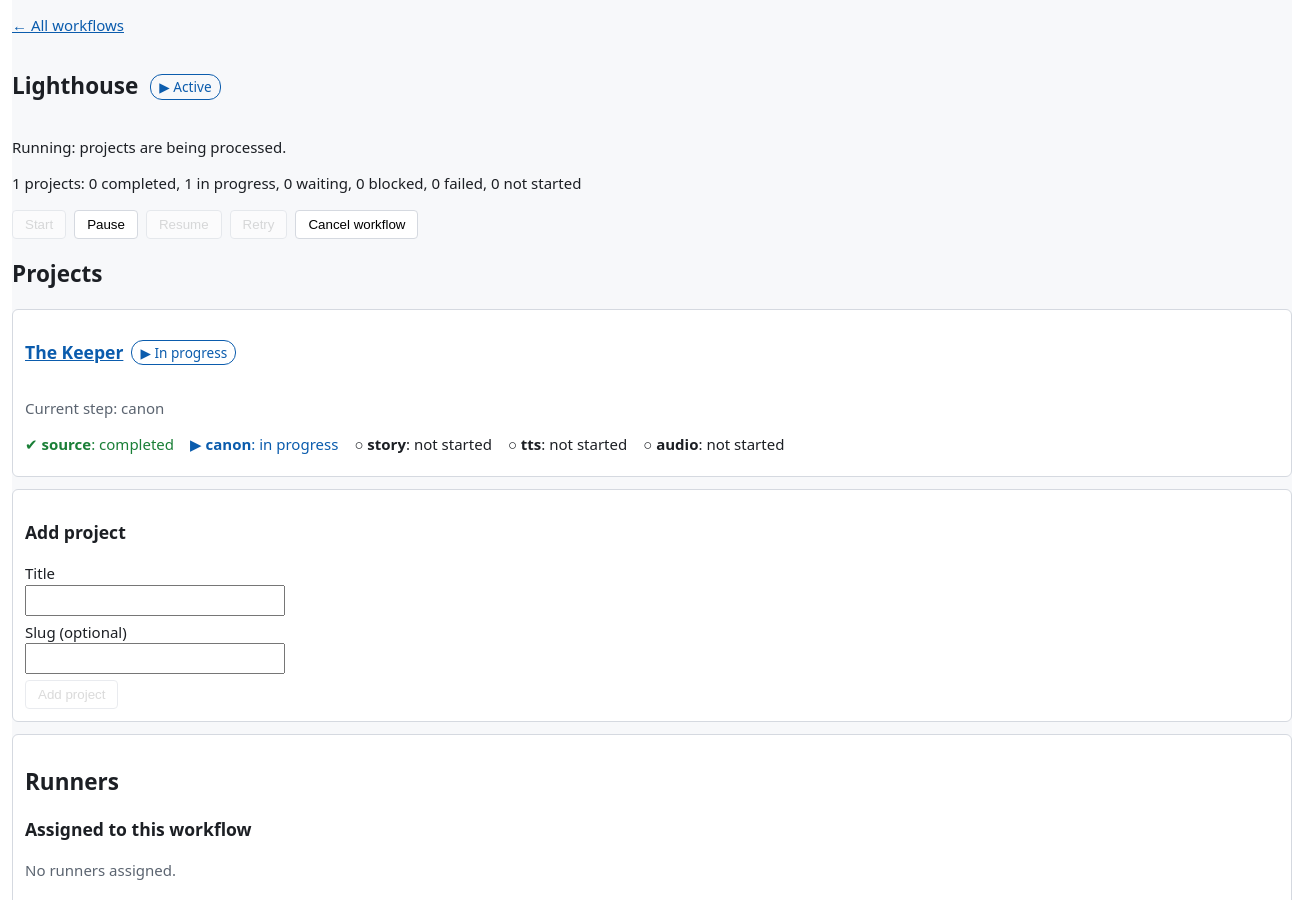
commands and forms › conflict from backend surfaces as alert
Expected: the heading "Lighthouse" is shown, [12,70,138,103]
Click the button "Pause".
click(106, 225)  # box [74,210,138,239]
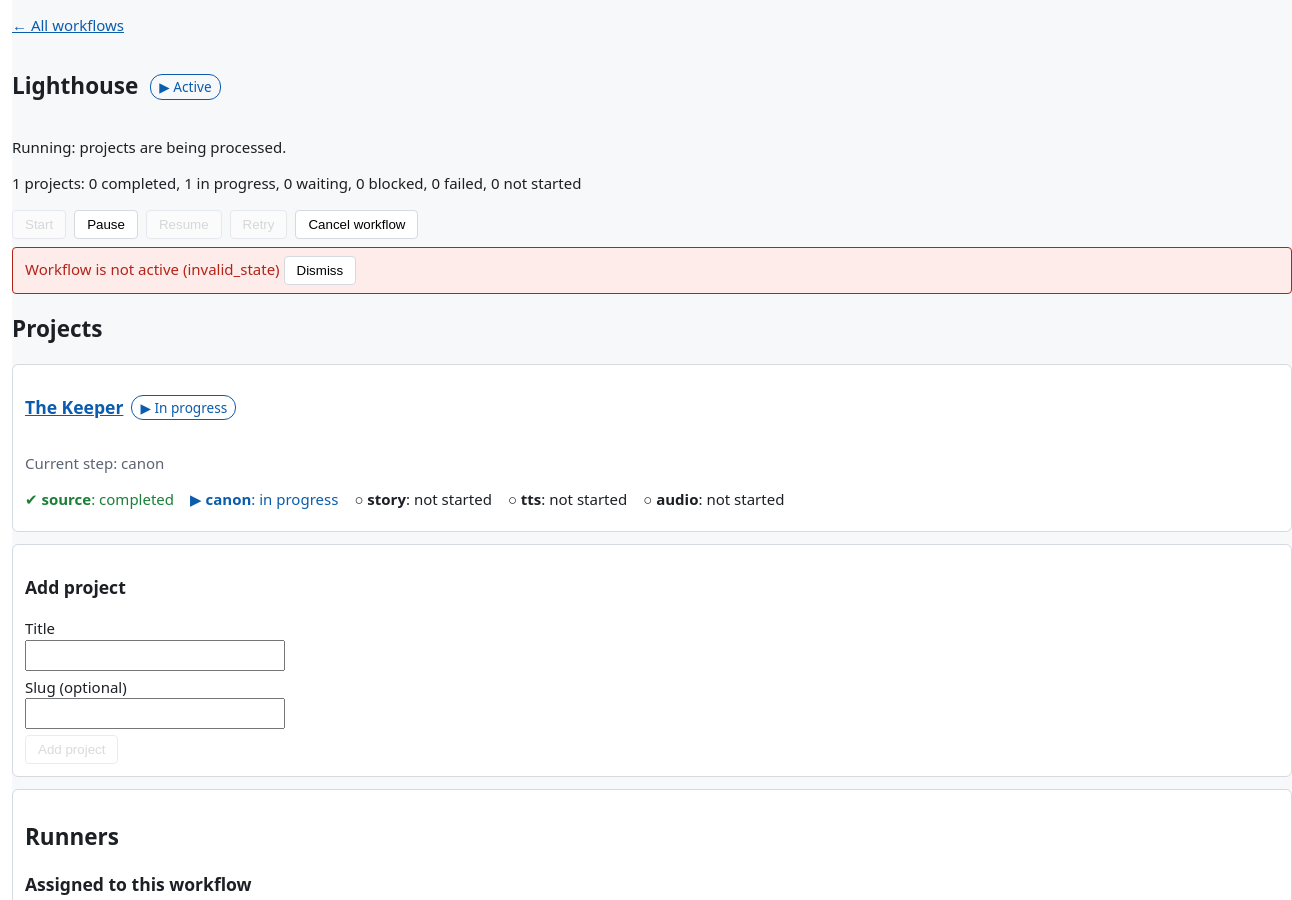
Expected: the message shows "Workflow is not active", [25,259,280,279]
